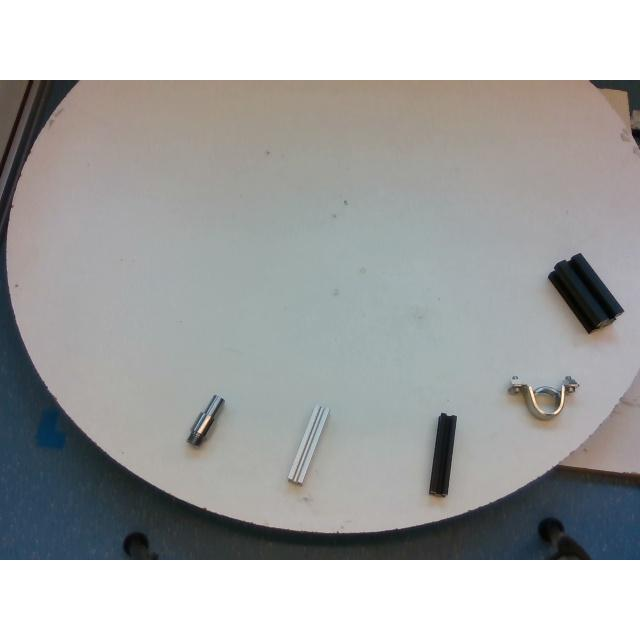Axis2: (187, 394, 223, 446)
F20_20_B: (429, 412, 458, 496)
F20_20_G: (288, 404, 328, 484)
Housing: (510, 374, 578, 418)
S40_40_B: (548, 252, 624, 332)
